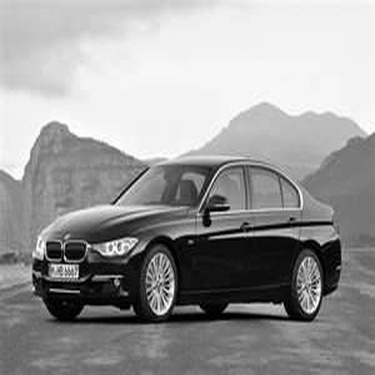car: (22, 149, 348, 325)
